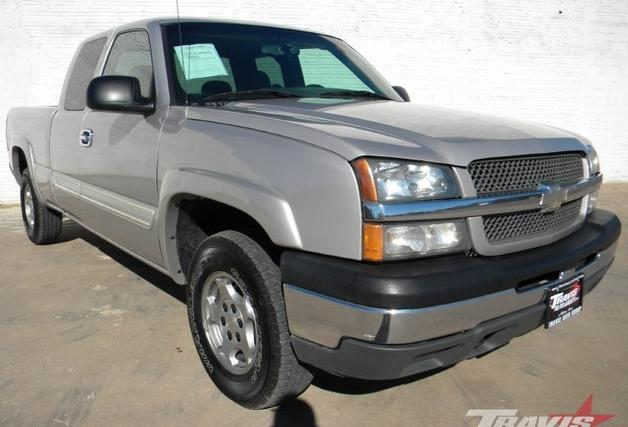front_view: (309, 142, 618, 338)
headlight: (347, 148, 488, 269)
side_glass: (76, 37, 164, 121)
